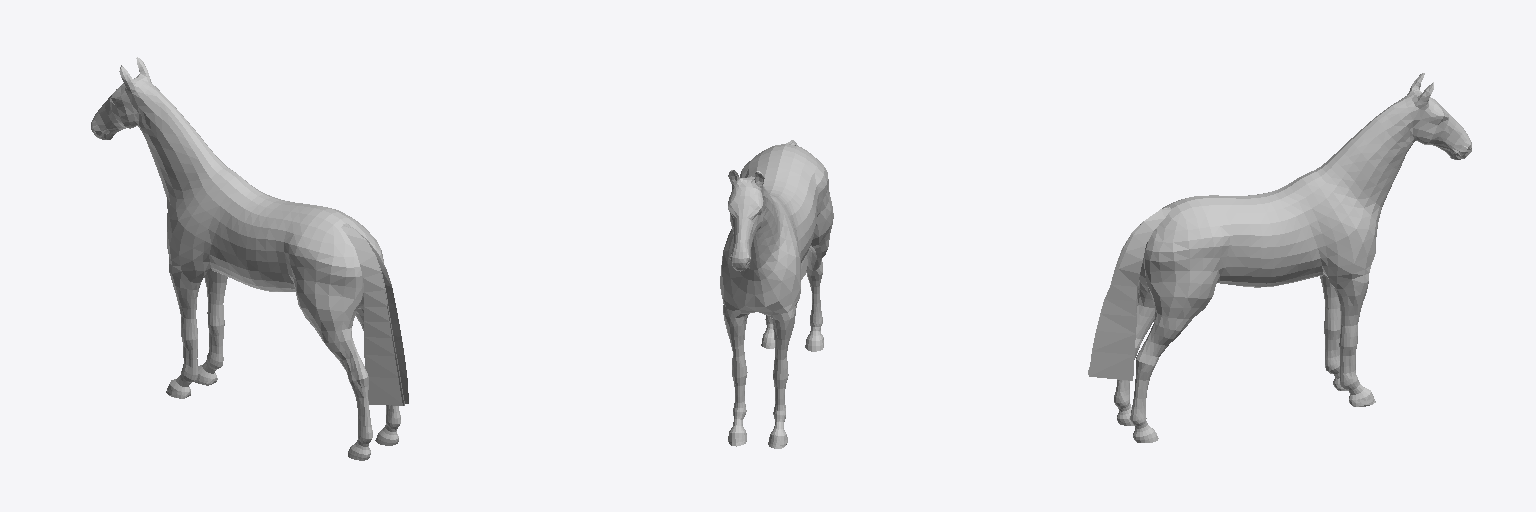
Rendered from horse.obj.
The picture shows the model from 3 angles: view 1: azimuth 30°, elevation 25°; view 2: azimuth 150°, elevation 25°; view 3: azimuth 270°, elevation 25°; orthographic projection.
Parts seen in each view (by area): view 1: horse; view 2: horse; view 3: horse.
Part boxes in pixels (bbox=[...]): horse: bbox=[91, 57, 408, 460]; horse: bbox=[720, 140, 833, 448]; horse: bbox=[1088, 73, 1471, 442].
Size of the model in its own units: 0.728 by 1.46 by 1.67.